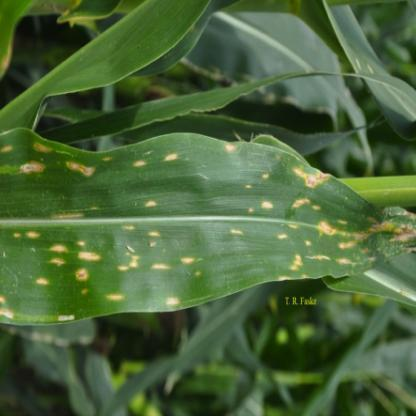Corn rust leaf: (0, 134, 414, 328)
